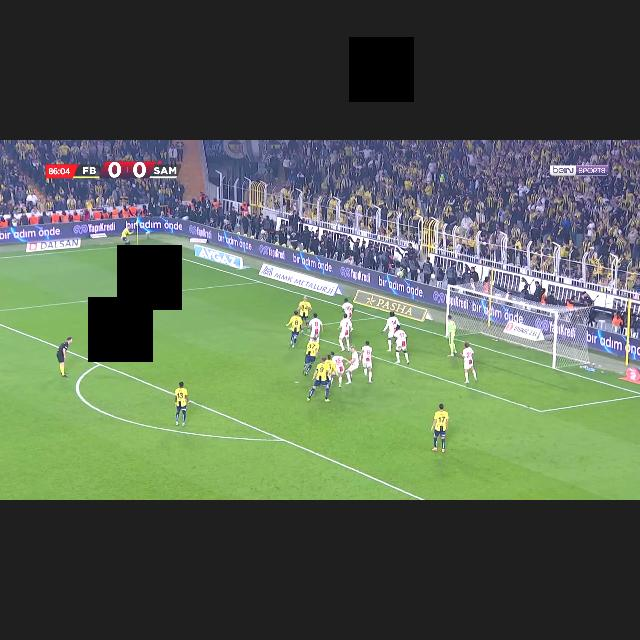billboard: (0, 217, 639, 361), (258, 264, 341, 296), (353, 290, 431, 321), (194, 244, 245, 268), (503, 320, 544, 340), (26, 238, 80, 252)
